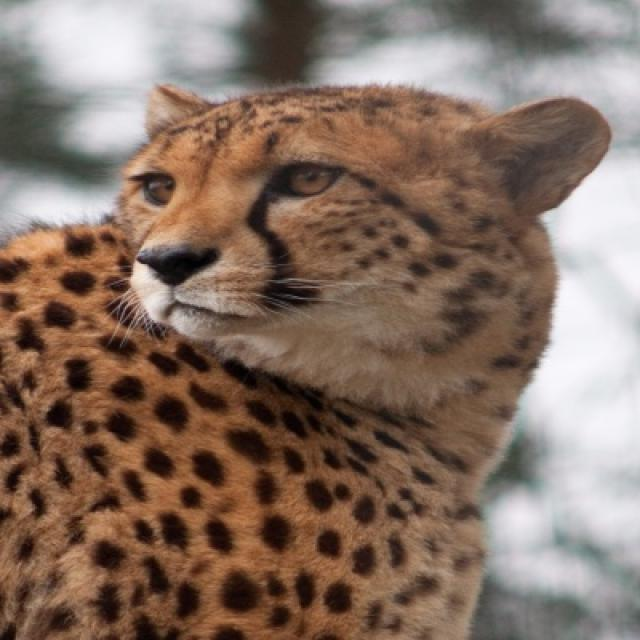Cheetah: (0, 85, 613, 638)
